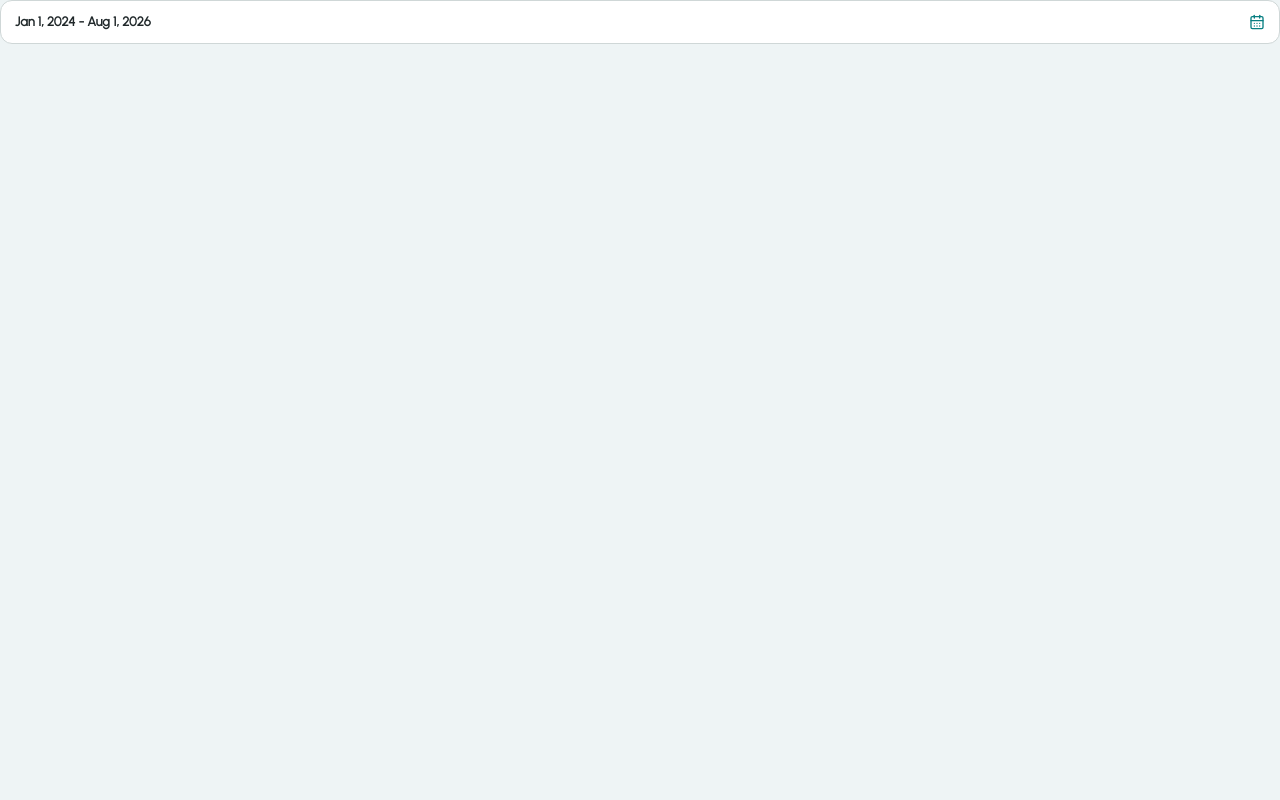
Scenario: ShiftDateRangeControl › accepts an ordered range longer than 31 days when no maximum is configured
The image size is (1280, 800).
Later steps or results of the test are not shown.
Click the button with aria-label "Change shift date range" at (83, 22), box top-left (0, 0), bottom-right (1279, 44)
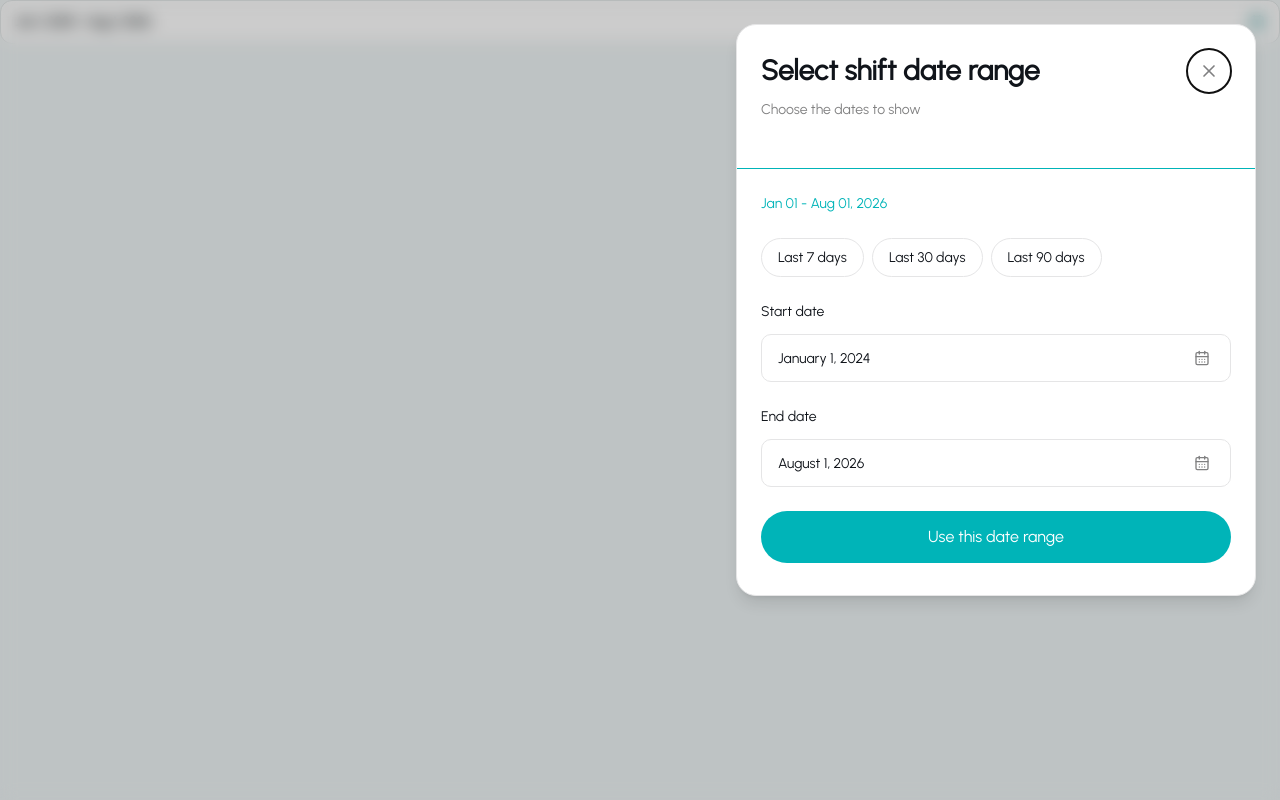
Expected: the heading "Select shift date range" is shown, top-left (761, 53), bottom-right (1040, 87)
